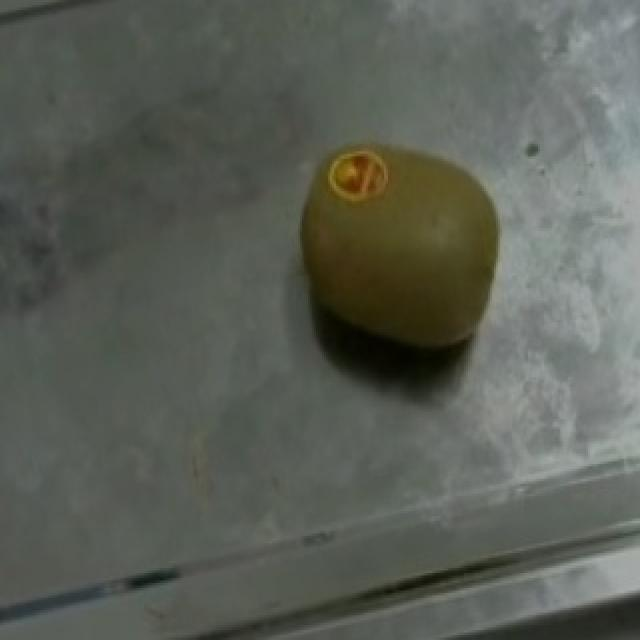Fruit: (262, 124, 526, 382)
